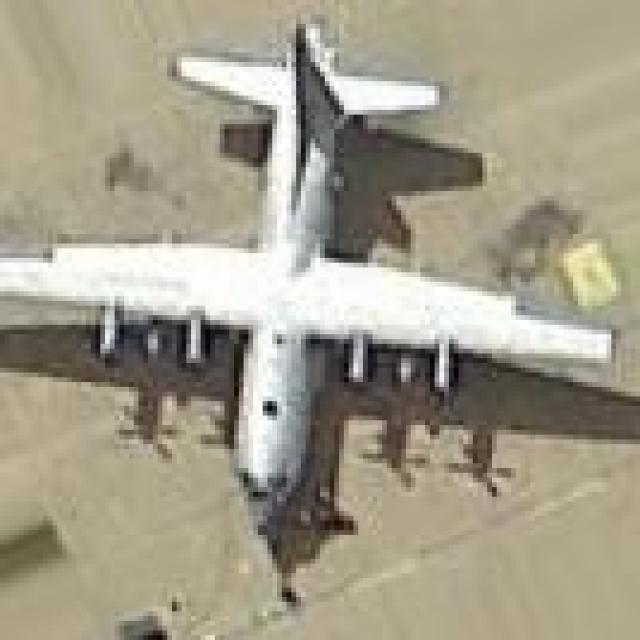C-130_TopDown: (0, 21, 640, 579)
